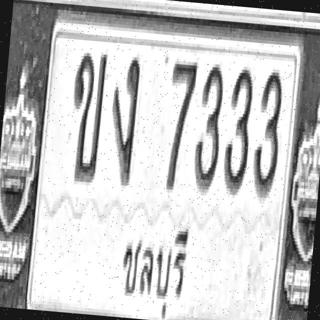A02: (65, 49, 108, 183)
A07: (105, 54, 141, 184)
N03: (250, 68, 285, 198), (192, 61, 226, 192), (222, 64, 255, 194)
N07: (162, 57, 198, 190)
P13: (111, 212, 195, 320)
